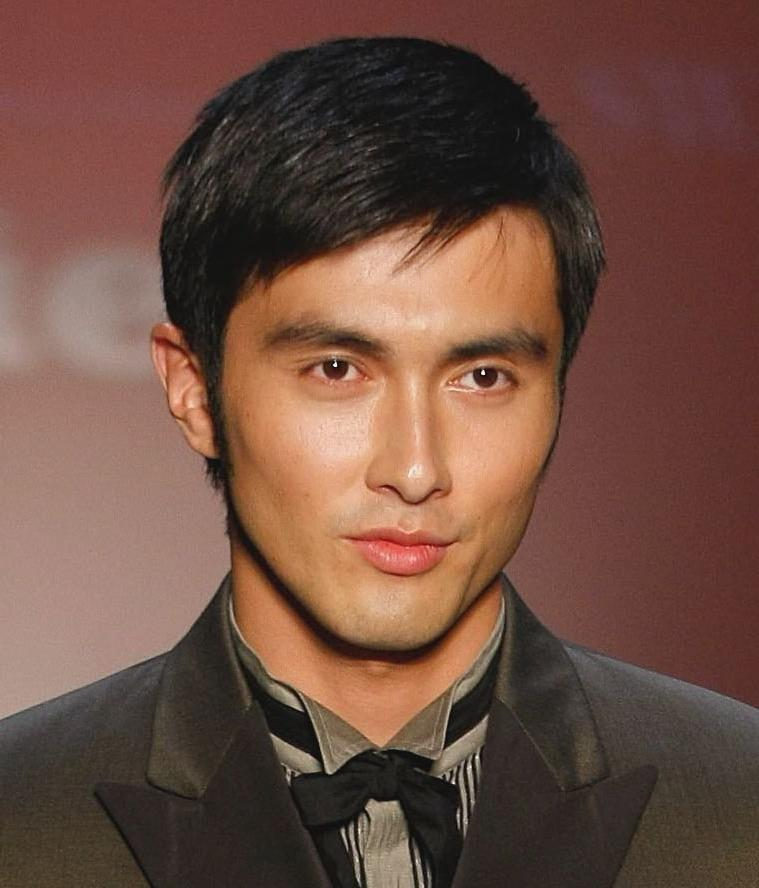Sober: (219, 258, 546, 621)
